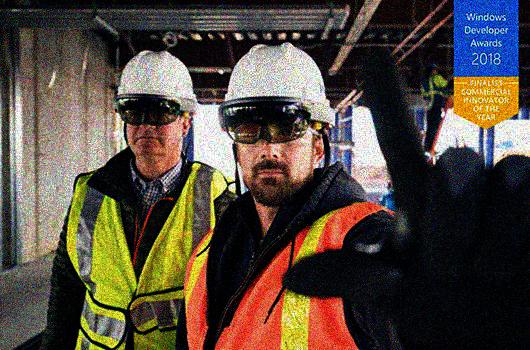helmet: (223, 42, 336, 203), (116, 48, 199, 157), (425, 59, 439, 75)
